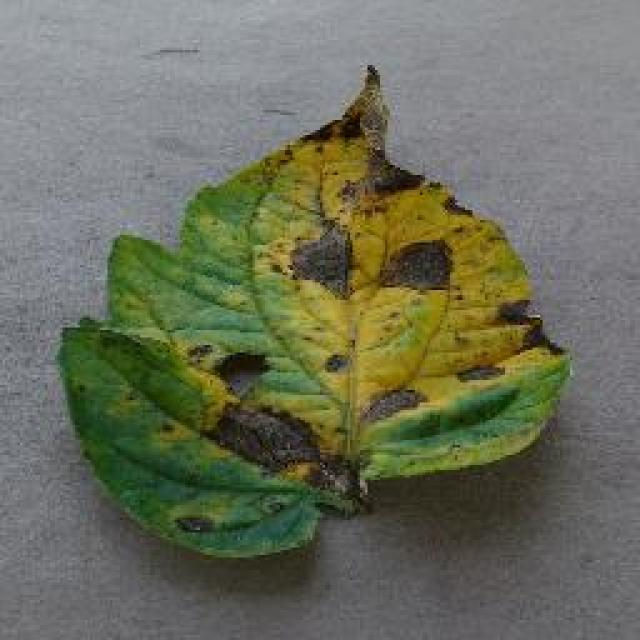Tomato___Early_blight: (52, 60, 573, 570)
